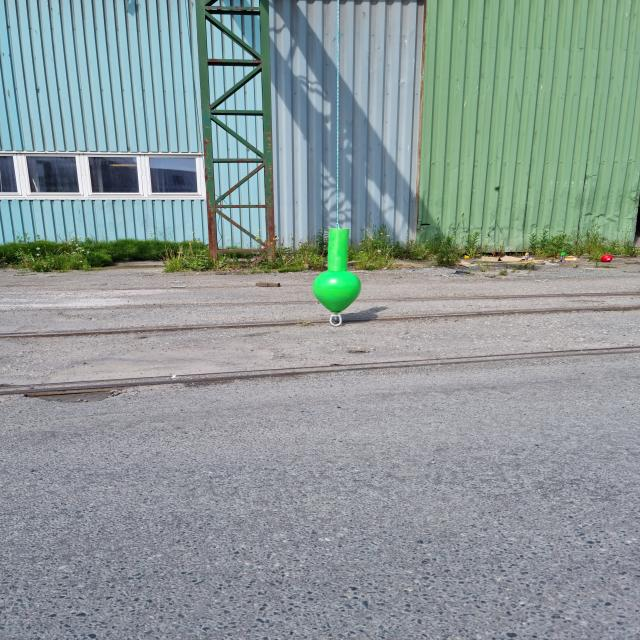green: (312, 228, 361, 313)
